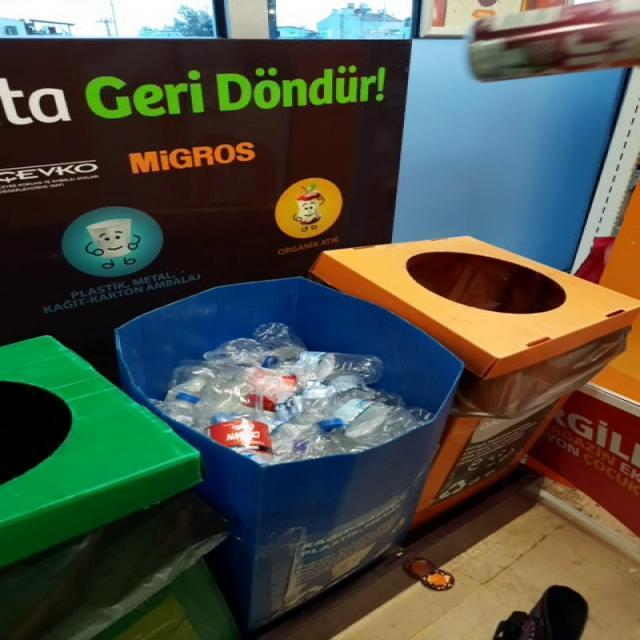Other: (0, 422, 503, 431)
